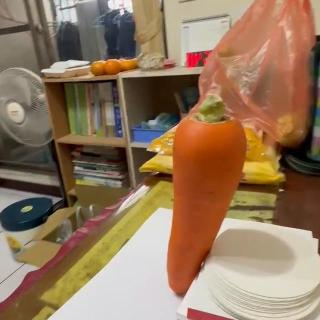carrot: (165, 93, 248, 295)
